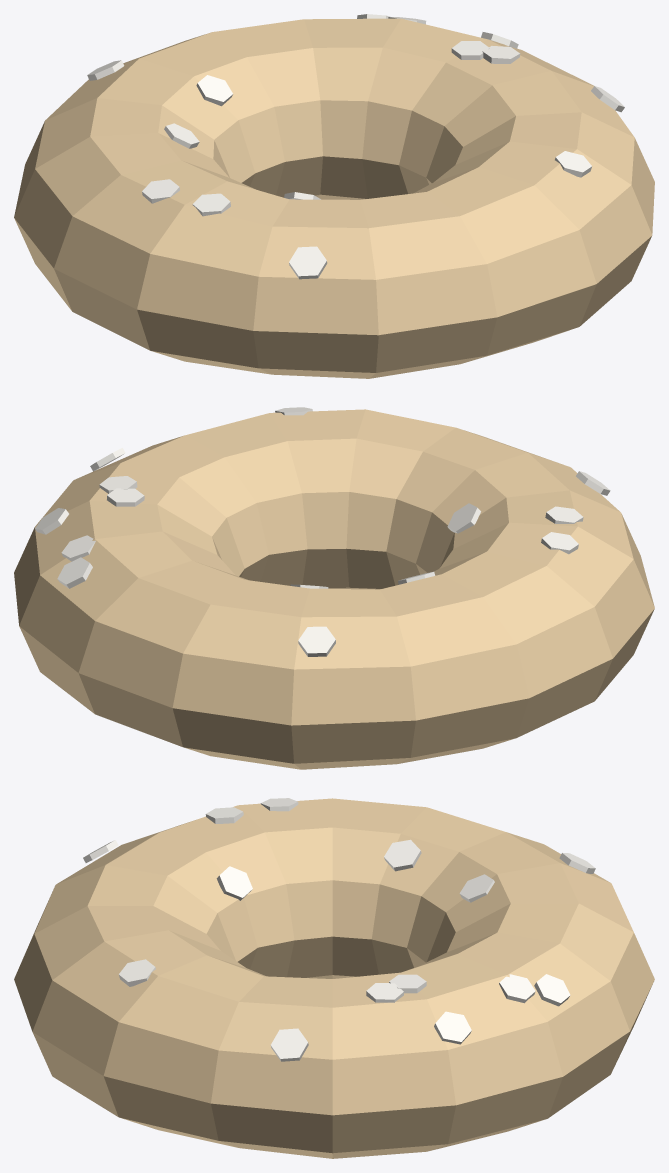
Rendered from Donut_Raw.fbx.
3 views of the same model, one above another, from view 1: azimuth 30°, elevation 25°; view 2: azimuth 150°, elevation 25°; view 3: azimuth 270°, elevation 25° (orthographic).
Visible parts, largest first — view 1: Donut_Raw; view 2: Donut_Raw; view 3: Donut_Raw.
Part boxes in pixels (<box>): Donut_Raw: <box>14,14,654,378</box>; Donut_Raw: <box>14,407,654,769</box>; Donut_Raw: <box>14,798,654,1158</box>.
Size of the model in its own units: 0.4105 by 0.1128 by 0.4078.
